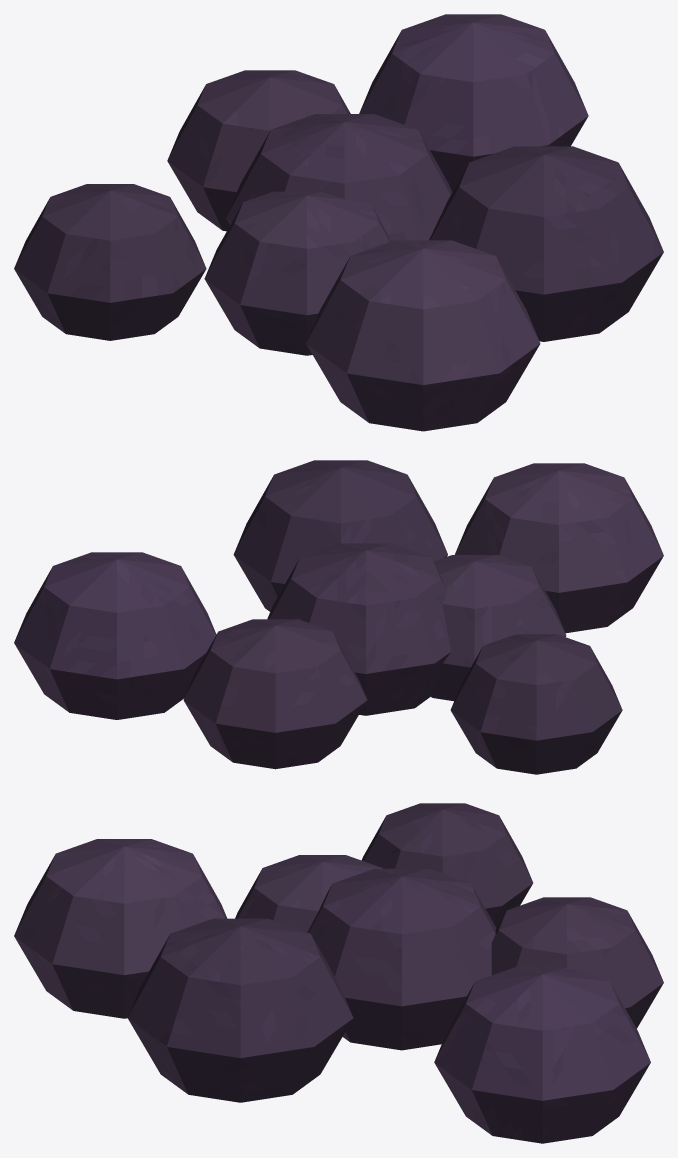
Rendered from chokeberries.glb.
3 views of the same model, one above another, from view 1: azimuth 30°, elevation 25°; view 2: azimuth 150°, elevation 25°; view 3: azimuth 270°, elevation 25° (orthographic). The views are drawn at different scales.
Parts seen in each view (by area): view 1: block_individual berry (×7); view 2: block_individual berry (×7); view 3: block_individual berry (×7).
Part boxes in pixels (<box>): block_individual berry (×7): <box>14,14,663,431</box>; block_individual berry (×7): <box>14,460,663,774</box>; block_individual berry (×7): <box>14,803,663,1143</box>.
Size of the model in its own units: 0.1082 by 0.0306 by 0.1084.
Materials: 1 (1 with a texture image).
